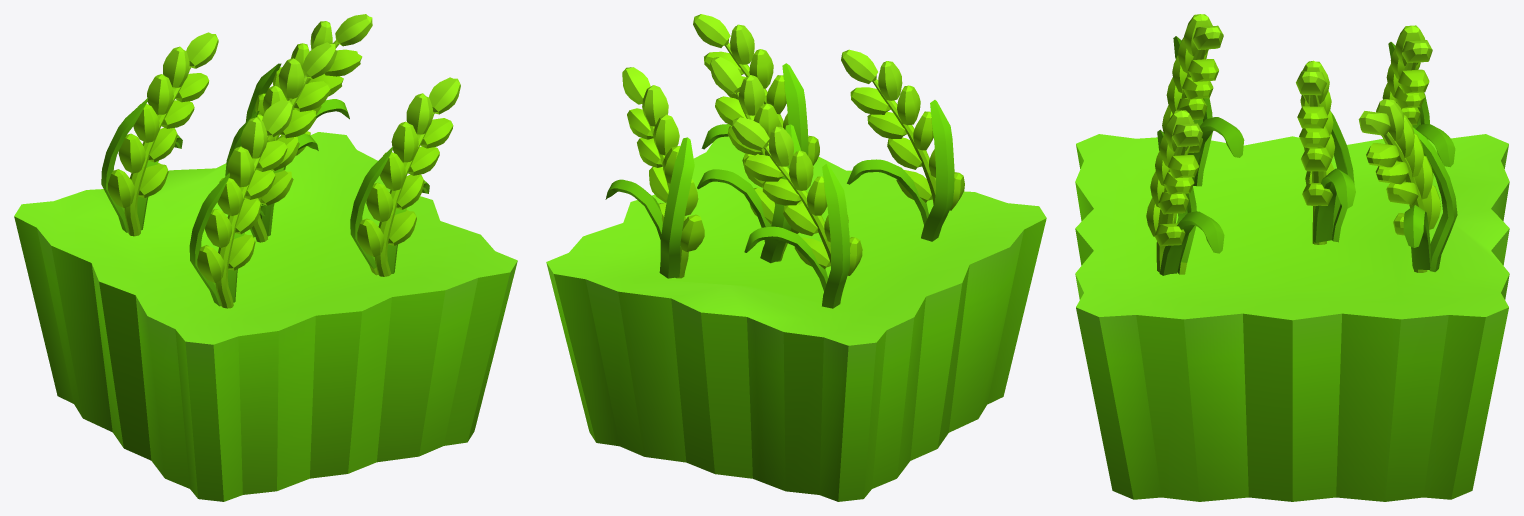
File: Farm_Crop_Rice_Step_02.fbx
3 renders of one model, left to right at view 1: azimuth 30°, elevation 25°; view 2: azimuth 150°, elevation 25°; view 3: azimuth 270°, elevation 25°, orthographic. The views are drawn at different scales.
Visible parts, largest first — view 1: Farm_Crop_Rice_Step_02; view 2: Farm_Crop_Rice_Step_02; view 3: Farm_Crop_Rice_Step_02.
Part boxes in pixels (box(x1,y1,x2,y2)): Farm_Crop_Rice_Step_02: box(14, 14, 517, 501); Farm_Crop_Rice_Step_02: box(546, 14, 1046, 501); Farm_Crop_Rice_Step_02: box(1075, 14, 1509, 501).
Size of the model in its own units: 201 by 199 by 200.
